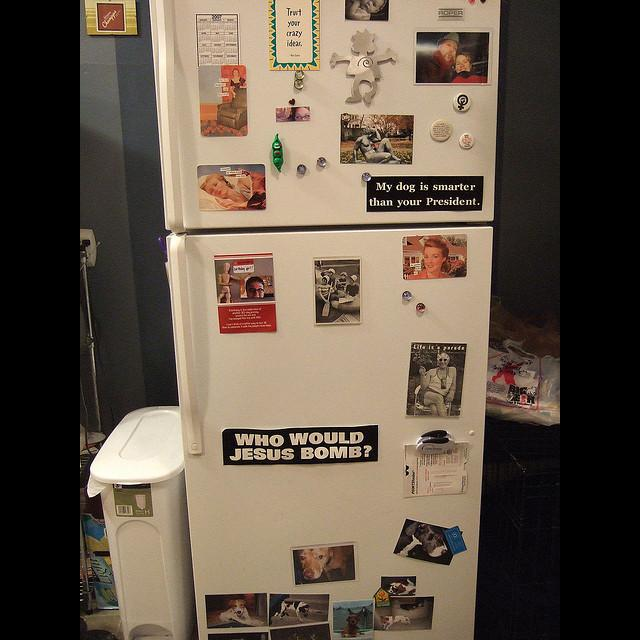Refrigerator: (149, 0, 501, 640)
